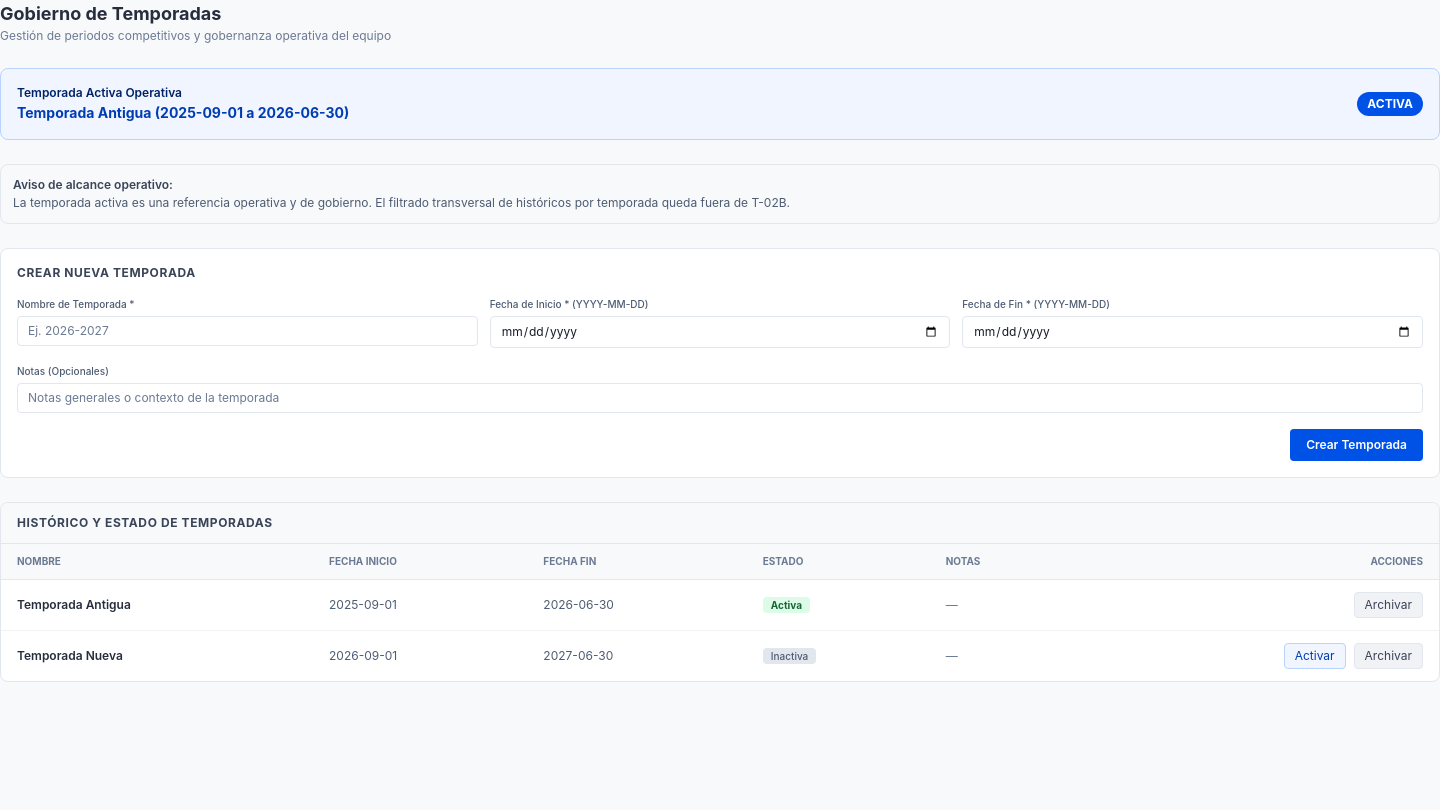
Test: T-02B — GovernancePage UI & Season Management › 6. Activar requiere confirmación en modal y desactiva la temporada anterior
Expected: the text "Temporada Nueva" is shown, [1,630,313,681]
Step 1. Click the button "Activar" → (1315, 656), box [1284,643,1346,669]
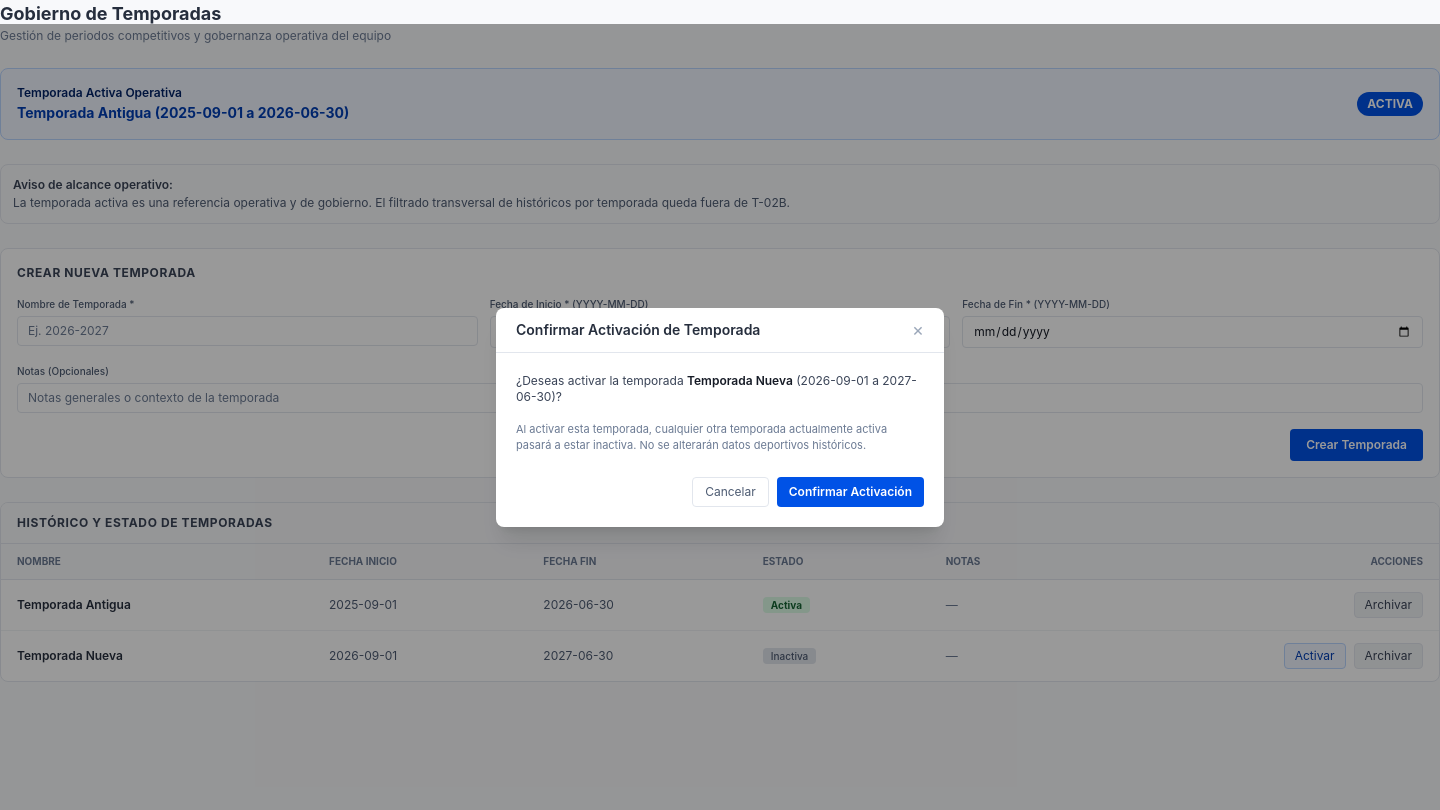
Now the heading "Confirmar Activación de Temporada" is shown, box [516,320,760,340]
Step 2. Click the button "Confirmar Activación" → (850, 492), box [777,476,924,506]
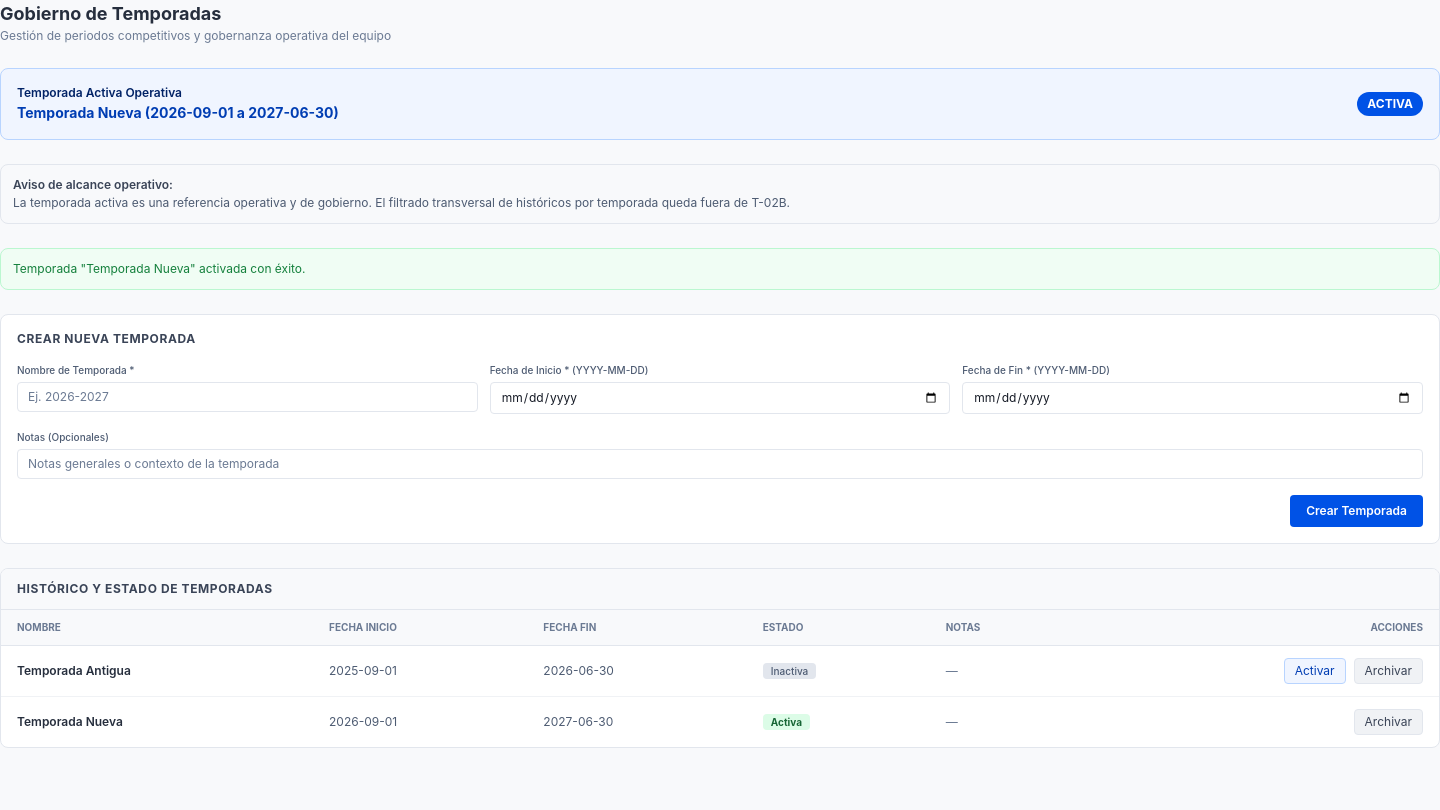
Now the text "Temporada \"Temporada Nueva\" activada con éxito." is shown, box [0,248,1439,290]
